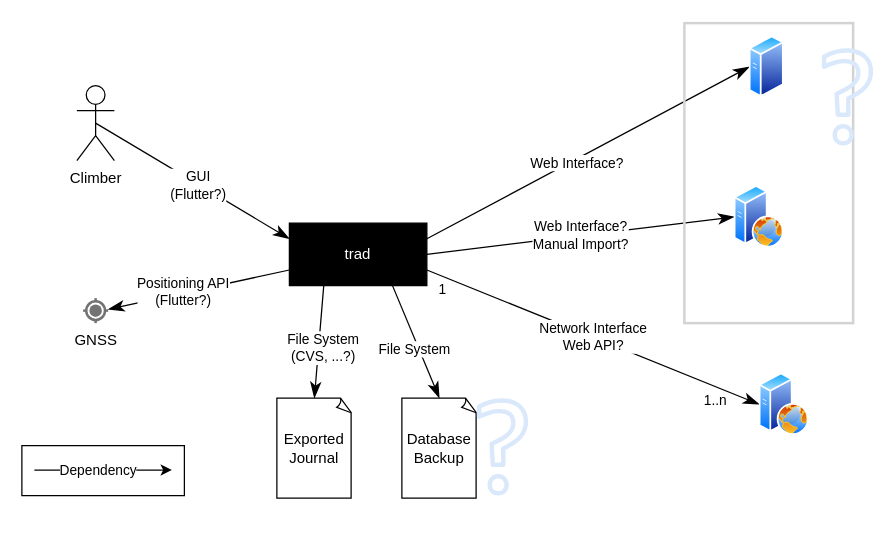
This 895x541 diagram has some shape labels left out. The centre of each missing label's shape, as x and y in pixels:
Knot Information Provider: point (766, 66)
Regulations Provider (SBB): point (759, 216)
Route Data Provider: - teufelsturm.de - db-sandsteinklettern.de - ...?: point (784, 403)
